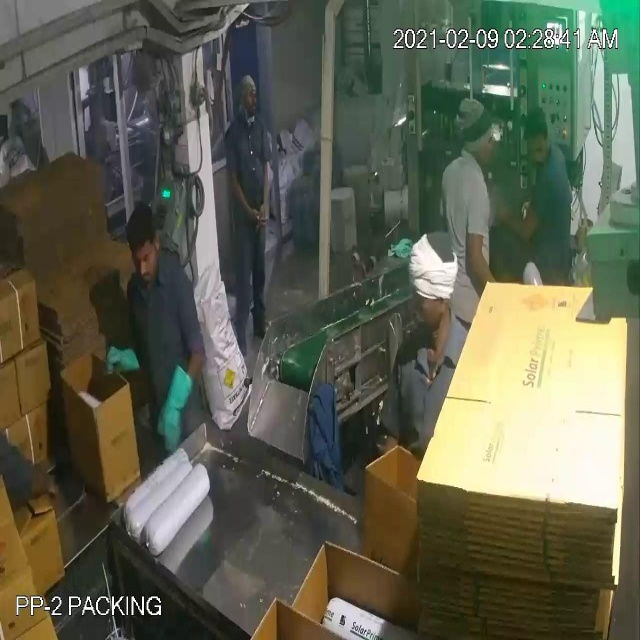Guantes: (158, 354, 192, 455), (97, 331, 150, 392)
Sin_guantes: (223, 167, 264, 232), (496, 191, 544, 246), (256, 142, 275, 232)
